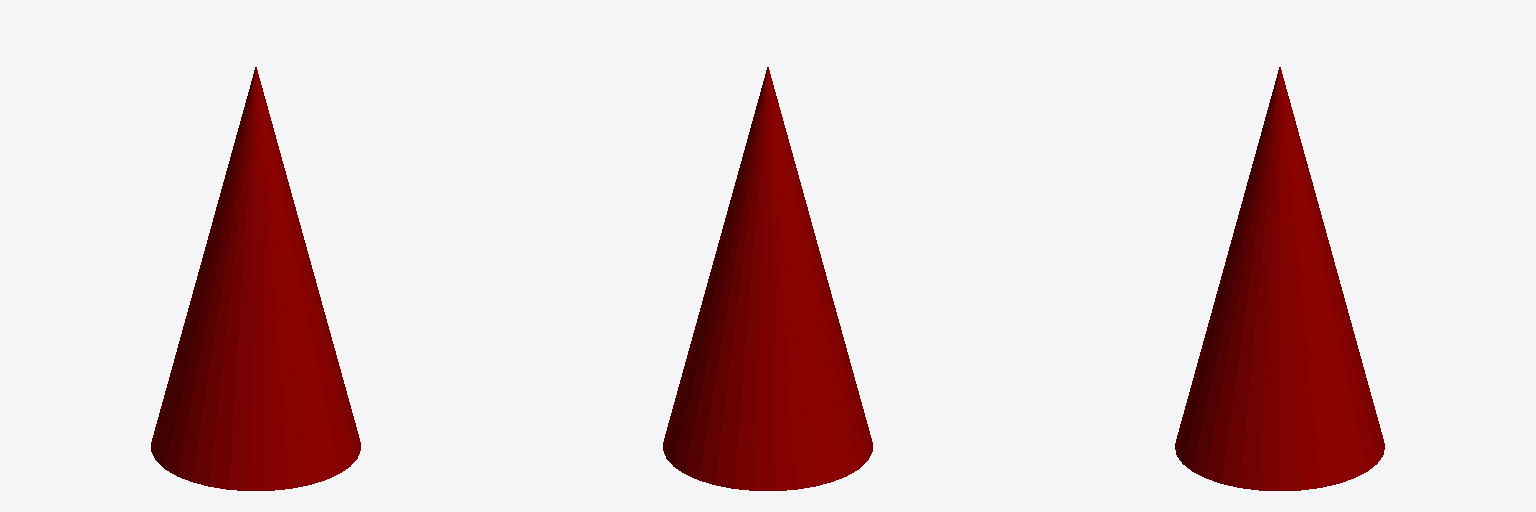
File: missile.obj
3 renders of one model, left to right at view 1: azimuth 30°, elevation 25°; view 2: azimuth 150°, elevation 25°; view 3: azimuth 270°, elevation 25°, orthographic.
Parts seen in each view (by area): view 1: Cone; view 2: Cone; view 3: Cone.
Part boxes in pixels (x1,y1,x2,y2): Cone: (151,67,360,490); Cone: (663,67,872,490); Cone: (1175,67,1384,490).
Bounding box in the file's own units: 2 × 4 × 2.